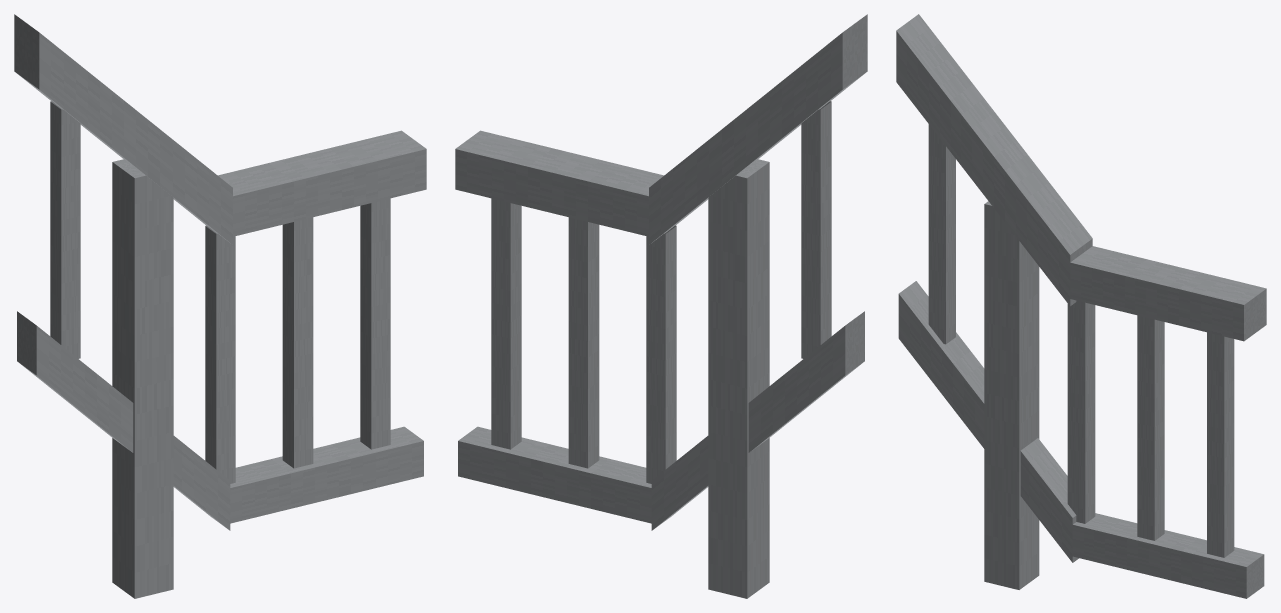
File: foot_neg.obj
The picture shows the model from 3 angles, left to right: view 1: azimuth 30°, elevation 25°; view 2: azimuth 150°, elevation 25°; view 3: azimuth 330°, elevation 25°; orthographic projection. The views are drawn at different scales.
Visible parts, largest first — view 1: railing_picket_grey_foot_neg; view 2: railing_picket_grey_foot_neg; view 3: railing_picket_grey_foot_neg.
Part boxes in pixels (left/top/right/bottom): railing_picket_grey_foot_neg: left=14, top=14, right=426, bottom=598; railing_picket_grey_foot_neg: left=455, top=14, right=867, bottom=598; railing_picket_grey_foot_neg: left=896, top=14, right=1266, bottom=598.
Size of the model in its own units: 1 by 1.46 by 0.1125.
